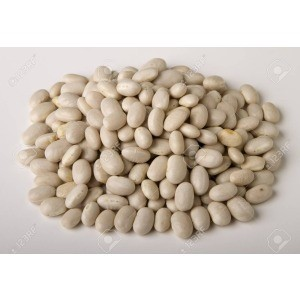beans_brain food: (62, 106, 208, 222)
